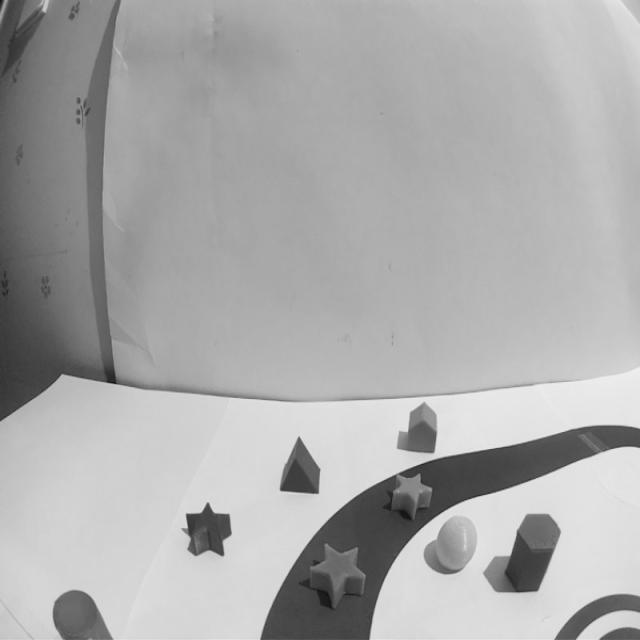ball: (434, 514, 478, 572)
cylinder: (52, 590, 115, 639)
hexagon: (504, 510, 564, 594)
home: (402, 402, 438, 453)
laneRightTurn: (256, 456, 468, 640)
star: (307, 540, 367, 614), (184, 502, 233, 560), (391, 472, 433, 520)
triangle: (280, 438, 320, 495)
